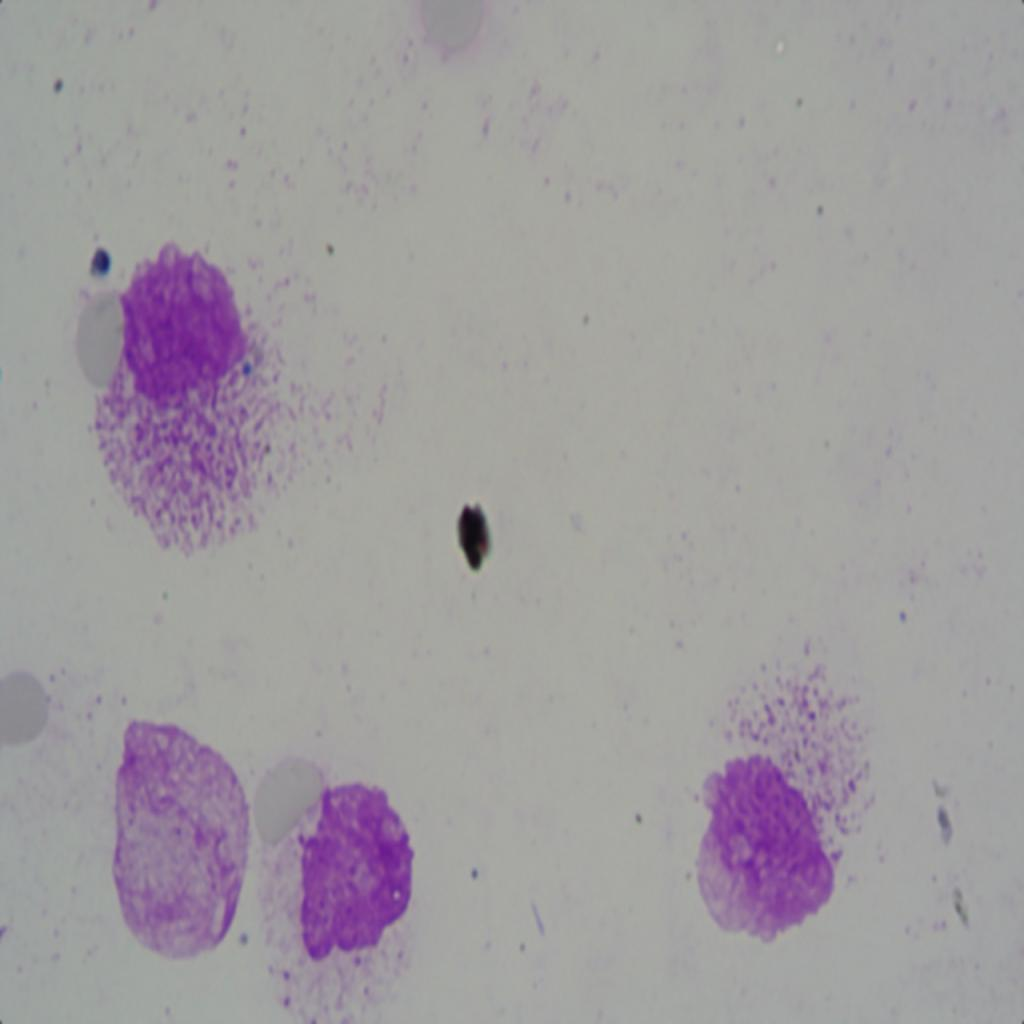Myeoblast: (694, 725, 844, 945), (293, 772, 422, 967), (116, 234, 253, 417)
